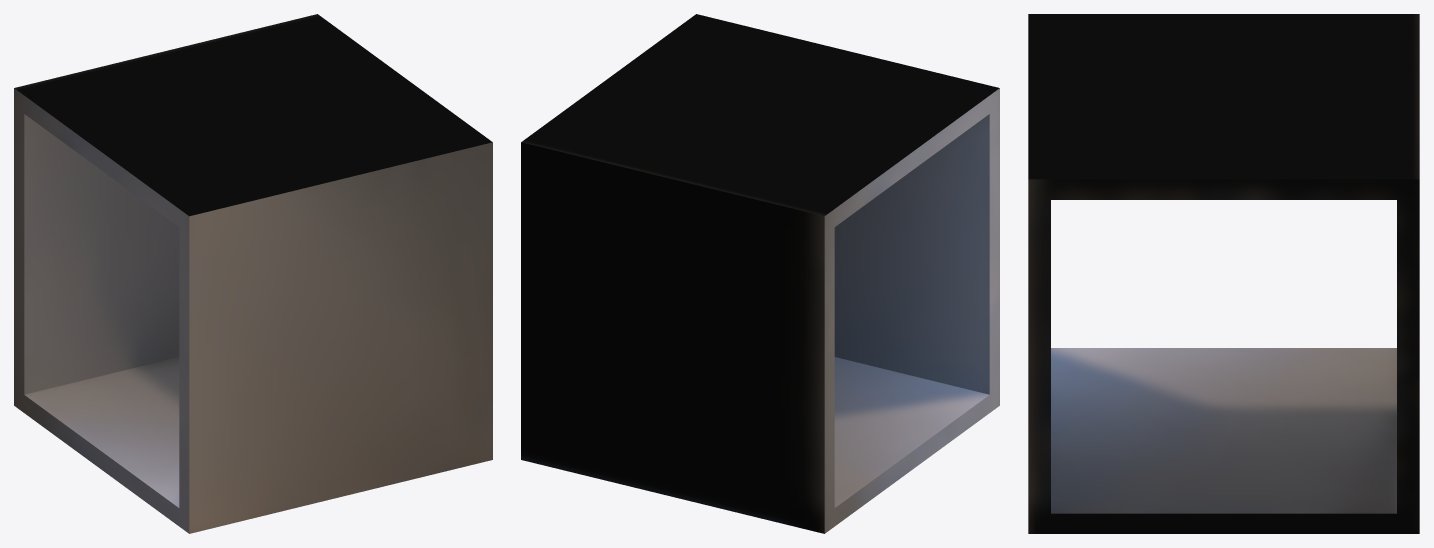
The picture shows the model from 3 angles, left to right: view 1: azimuth 30°, elevation 25°; view 2: azimuth 150°, elevation 25°; view 3: azimuth 270°, elevation 25°; orthographic projection. The views are drawn at different scales.
Visible parts, largest first — view 1: Cube.031; view 2: Cube.031; view 3: Cube.031.
Boxes of the visible parts, <box> form: Cube.031: <box>14,14,492,533</box>; Cube.031: <box>521,14,999,533</box>; Cube.031: <box>1028,14,1419,533</box>.
Size of the model in its own units: 0.8657 by 0.8657 by 0.8657.
Materials: 1 (1 with a texture image).
